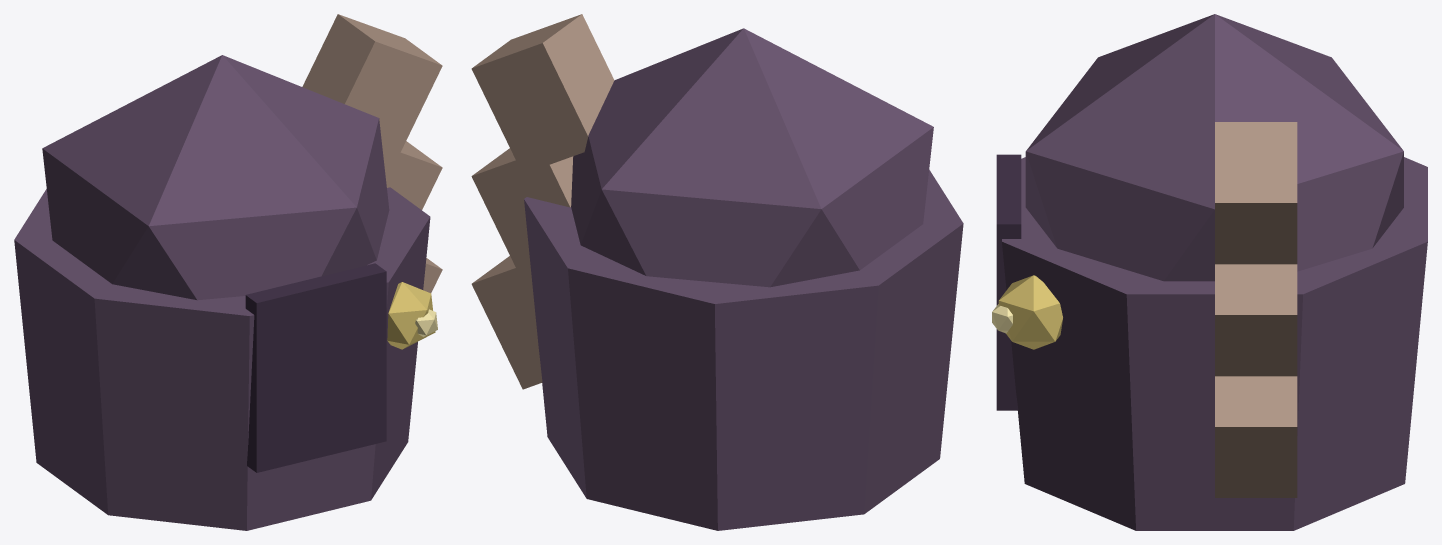
Rendered from inf_warden_lower_arm_r.fbx.
3 renders of one model, left to right at view 1: azimuth 30°, elevation 25°; view 2: azimuth 150°, elevation 25°; view 3: azimuth 270°, elevation 25°, orthographic. The views are drawn at different scales.
Visible parts, largest first — view 1: inf_warden_lower_arm_r; view 2: inf_warden_lower_arm_r; view 3: inf_warden_lower_arm_r.
Part boxes in pixels (<box>): inf_warden_lower_arm_r: <box>14,14,442,530</box>; inf_warden_lower_arm_r: <box>471,14,963,530</box>; inf_warden_lower_arm_r: <box>992,14,1427,530</box>.
Size of the model in its own units: 120 by 117 by 106.
